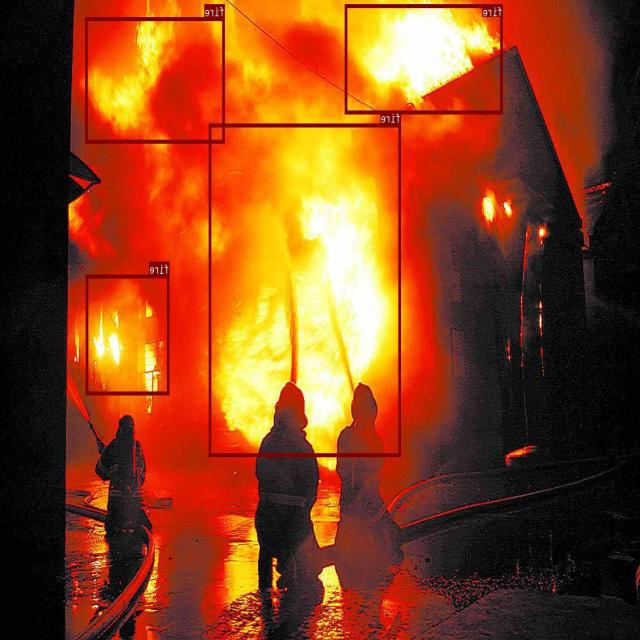fire: (209, 123, 401, 456), (346, 3, 503, 114), (86, 17, 225, 142), (86, 274, 170, 394)
